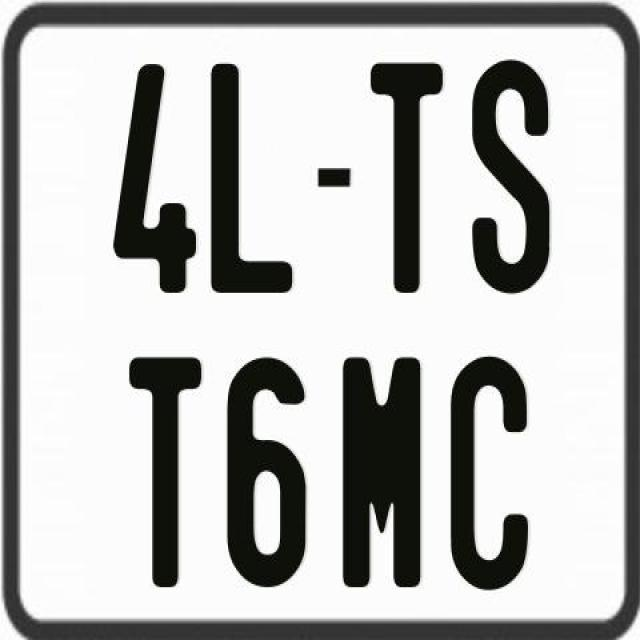4: (111, 59, 200, 293)
6: (227, 357, 310, 590)
C: (450, 352, 534, 590)
L: (206, 64, 290, 299)
M: (342, 355, 427, 595)
S: (471, 58, 556, 294)
T: (370, 58, 450, 288), (129, 356, 203, 588)
